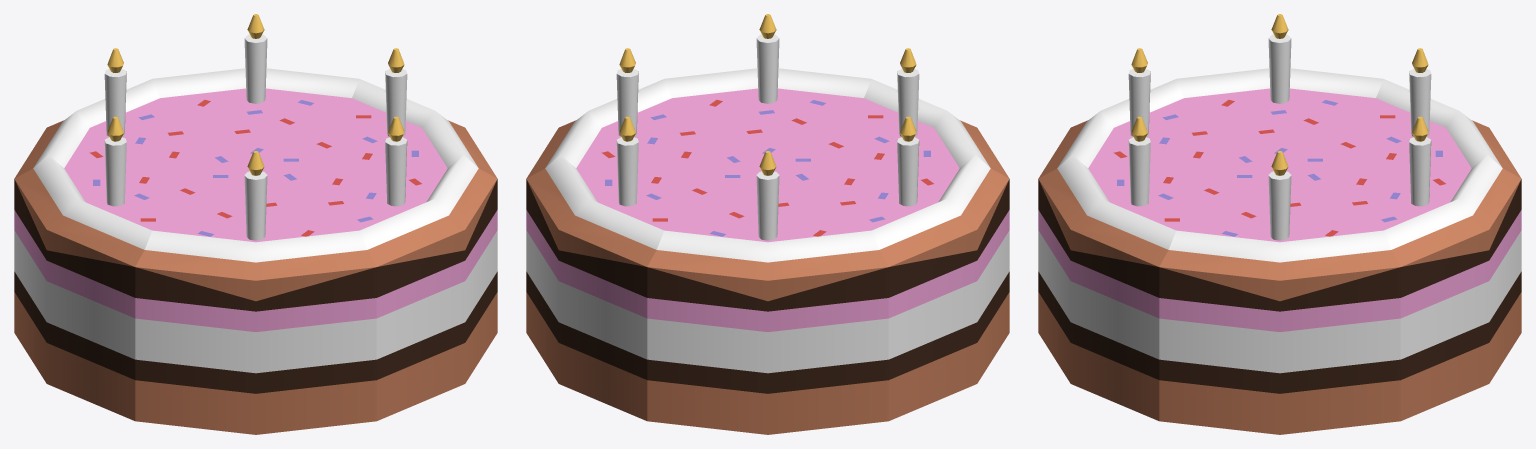
Rendered from cake.glb.
The picture shows the model from 3 angles, left to right: view 1: azimuth 30°, elevation 25°; view 2: azimuth 150°, elevation 25°; view 3: azimuth 270°, elevation 25°; orthographic projection.
Visible parts, largest first — view 1: slice_5, slice, slice_4, slice_2, slice_1, slice_3; view 2: slice_3, slice_2, slice_4, slice, slice_1, slice_5; view 3: slice_1, slice, slice_2, slice_4, slice_3, slice_5.
Boxes of the visible parts, left/top/right/bottom form: slice_5: left=135, top=151, right=376, bottom=434; slice: left=262, top=116, right=497, bottom=420; slice_4: left=14, top=116, right=249, bottom=420; slice_2: left=152, top=14, right=359, bottom=162; slice_1: left=263, top=48, right=497, bottom=178; slice_3: left=14, top=48, right=248, bottom=178; slice_3: left=647, top=151, right=888, bottom=434; slice_2: left=526, top=116, right=761, bottom=420; slice_4: left=774, top=116, right=1009, bottom=420; slice: left=664, top=14, right=871, bottom=162; slice_1: left=526, top=48, right=760, bottom=178; slice_5: left=775, top=48, right=1009, bottom=178; slice_1: left=1159, top=151, right=1400, bottom=434; slice: left=1038, top=116, right=1273, bottom=420; slice_2: left=1286, top=116, right=1521, bottom=420; slice_4: left=1176, top=14, right=1383, bottom=162; slice_3: left=1287, top=48, right=1521, bottom=178; slice_5: left=1038, top=48, right=1272, bottom=178.
Bounding box in the file's own units: 0.6392 × 0.3638 × 0.6392.
